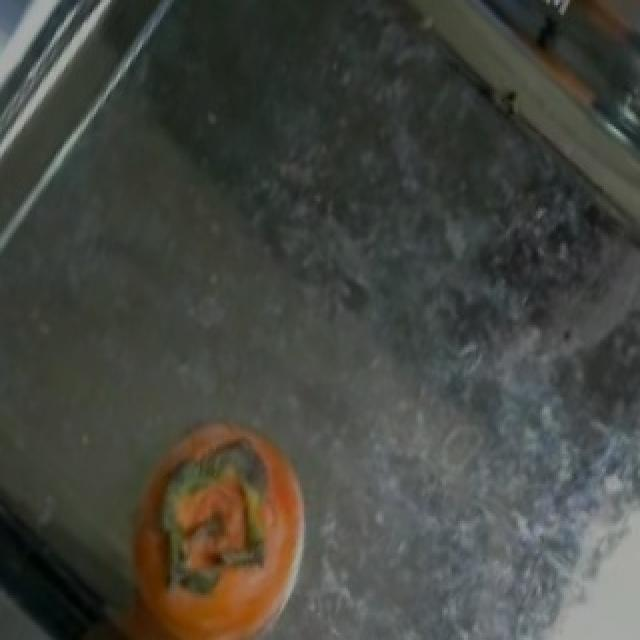Fruit: (122, 399, 332, 640)
